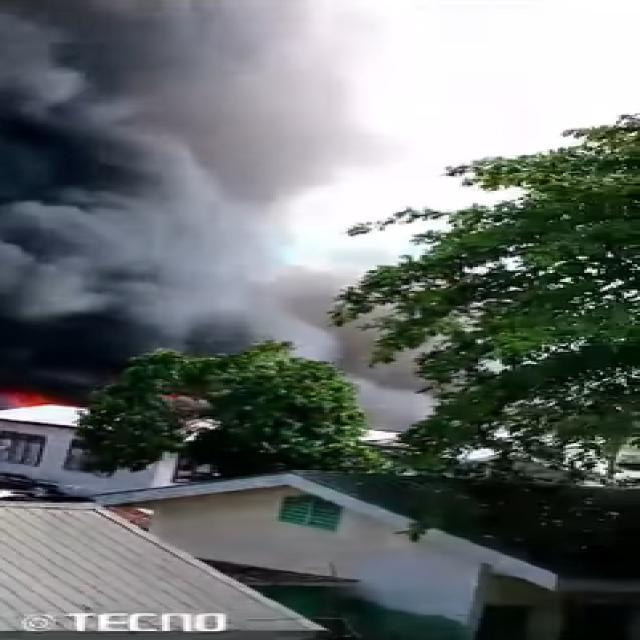Smoke: (2, 1, 338, 326)
